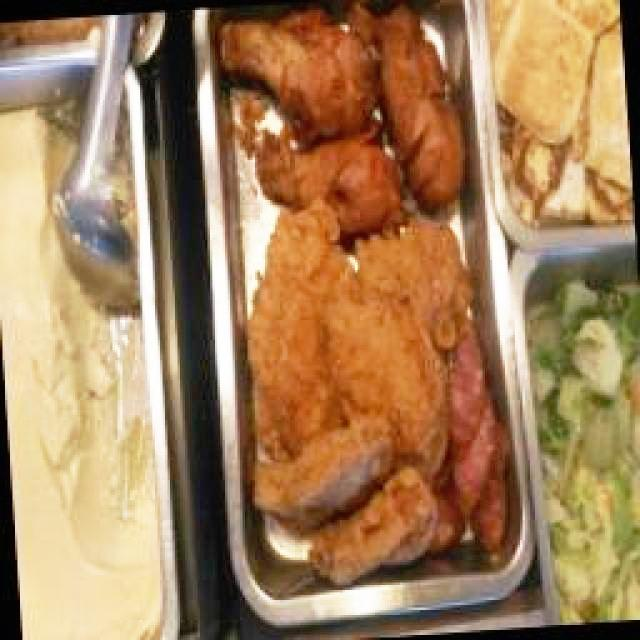chinese_cabbage: (530, 279, 640, 622)
chinese_sausage: (448, 324, 508, 559)
fried_chicken: (250, 204, 470, 587), (221, 12, 378, 139), (363, 13, 463, 211), (257, 138, 404, 242)
